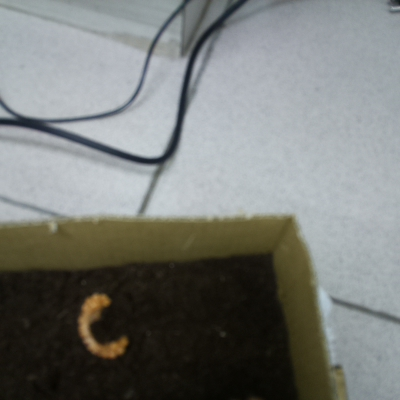eggs: (70, 288, 133, 363)
